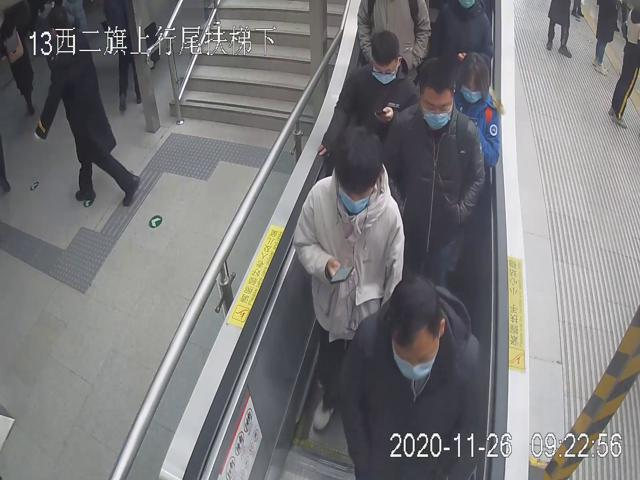person: (291, 123, 404, 431), (339, 267, 487, 480), (381, 55, 485, 284), (317, 24, 422, 171), (448, 47, 503, 170)
